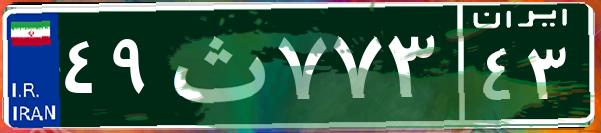3: (385, 28, 445, 110), (525, 38, 570, 115)
4: (57, 26, 110, 107), (475, 38, 525, 113)
7: (273, 28, 330, 110), (330, 28, 385, 110)
9: (110, 28, 158, 105)
ث: (158, 15, 273, 115)
